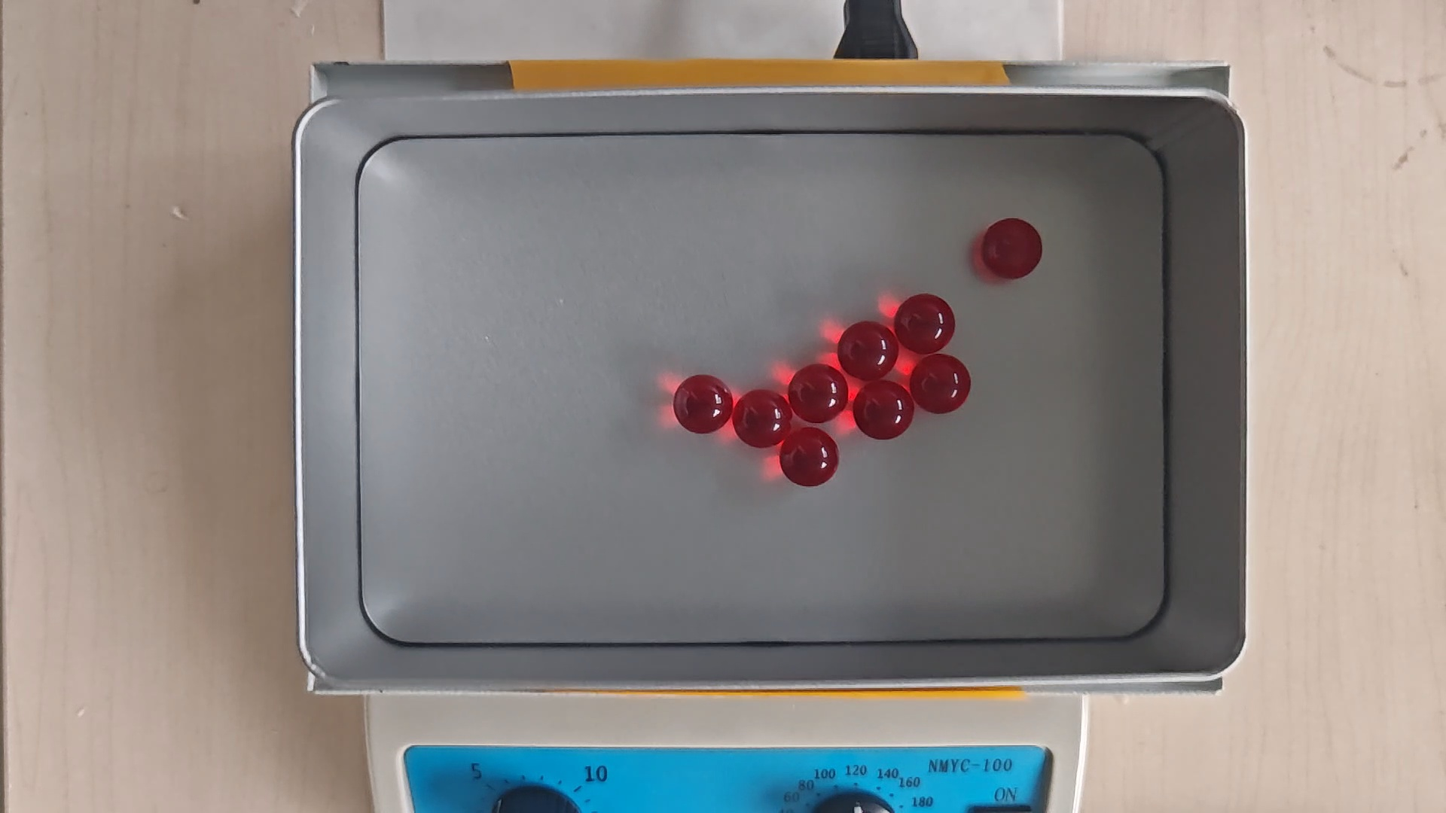ball: (908, 354, 972, 417), (776, 425, 839, 488), (837, 319, 898, 383), (980, 218, 1042, 280), (788, 362, 848, 426), (895, 292, 954, 357), (853, 379, 914, 441), (674, 374, 733, 436), (734, 388, 789, 449)
container: (355, 135, 1171, 643)
